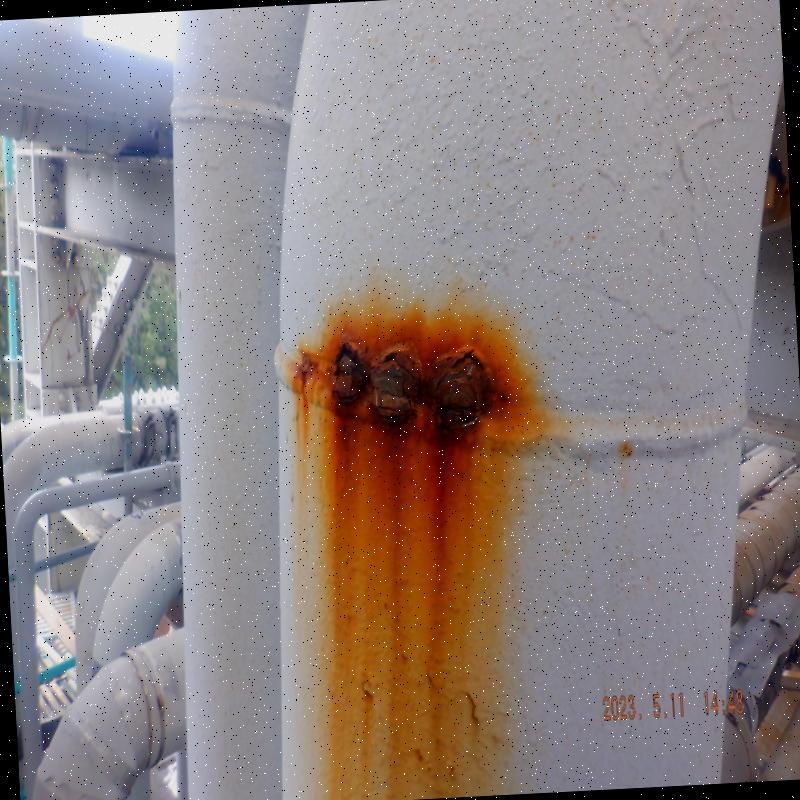corrosion: (326, 468, 490, 751), (320, 326, 496, 446)
